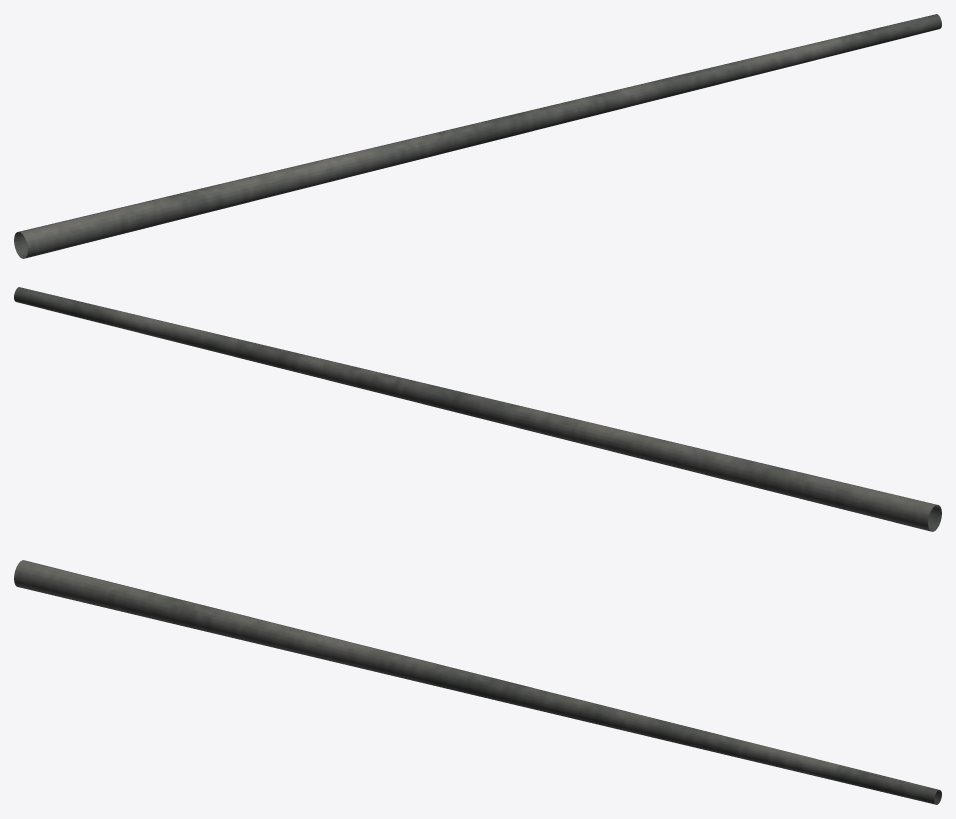
File: armLevel2-v1.glb
The picture shows the model from 3 angles, top to bottom: view 1: azimuth 30°, elevation 25°; view 2: azimuth 150°, elevation 25°; view 3: azimuth 330°, elevation 25°; orthographic projection.
Visible parts, largest first — view 1: armLevel2-v1; view 2: armLevel2-v1; view 3: armLevel2-v1.
Boxes of the visible parts, x1,y1,x2,y2 form: armLevel2-v1: (14,14,941,258); armLevel2-v1: (14,287,941,531); armLevel2-v1: (14,560,941,804).
Bounding box in the file's own units: 7.62 × 0.2 × 0.2.
Materials: 1 (1 with a texture image).
